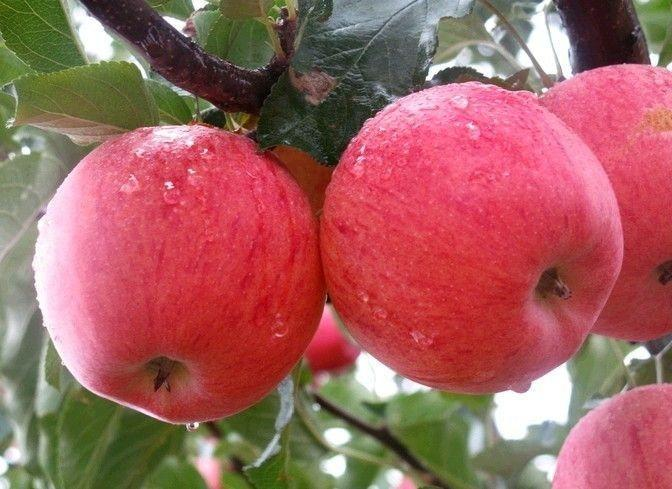apple: (318, 77, 626, 397), (33, 128, 332, 434), (536, 65, 672, 344), (553, 384, 672, 488)
